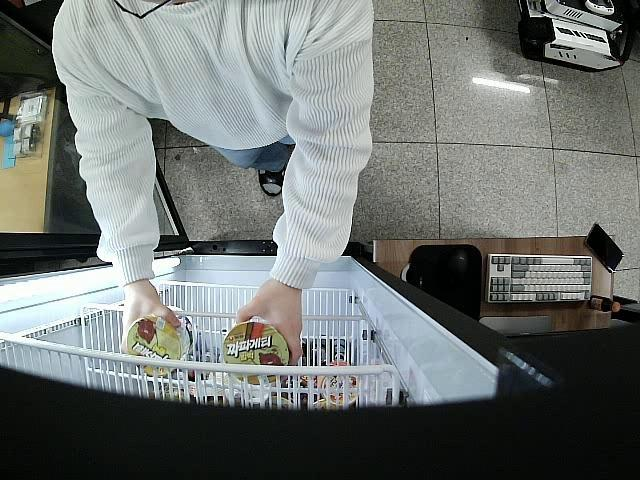04_chapagetti_S: (218, 320, 290, 386), (126, 314, 190, 374)
